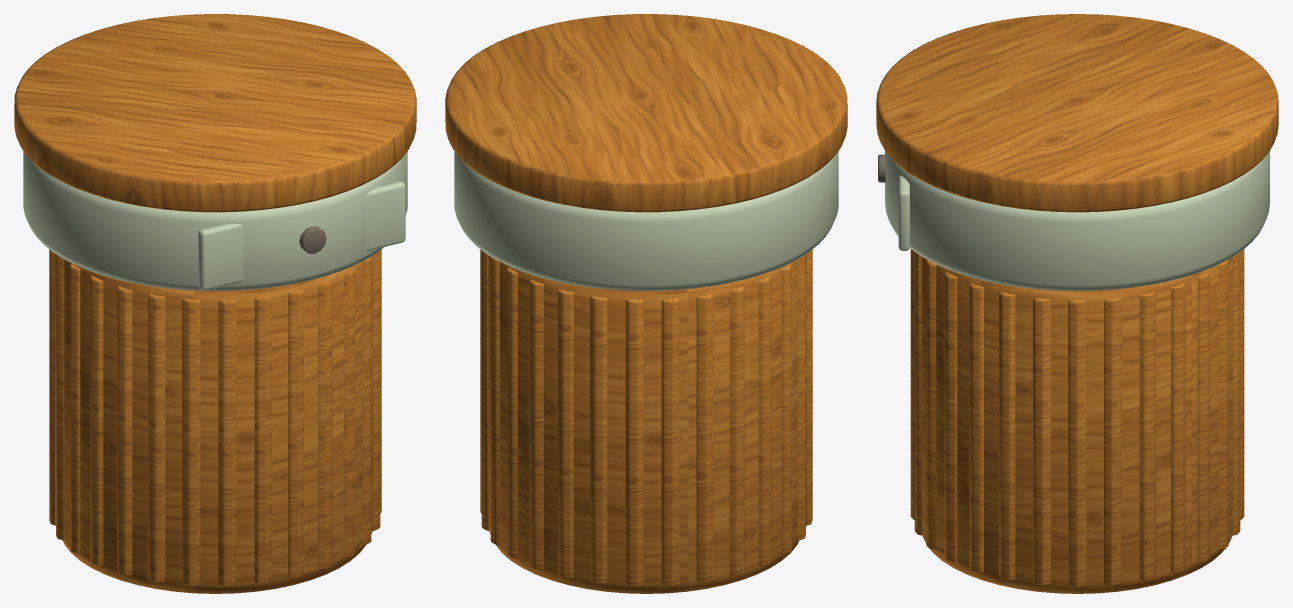
Rendered from pedestal-nightstand.glb.
3 renders of one model, left to right at view 1: azimuth 30°, elevation 25°; view 2: azimuth 150°, elevation 25°; view 3: azimuth 270°, elevation 25°, orthographic.
Visible parts, largest first — view 1: pedestal-nightstand; view 2: pedestal-nightstand; view 3: pedestal-nightstand.
Part boxes in pixels (x1,y1,x2,y2): pedestal-nightstand: [14, 14, 416, 593]; pedestal-nightstand: [445, 14, 847, 593]; pedestal-nightstand: [876, 14, 1278, 593].
Bounding box in the file's own units: 0.46 × 0.55 × 0.46.
Materials: 3 (1 with a texture image).
